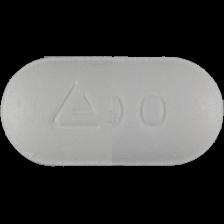49999-820: (0, 0, 224, 224)
